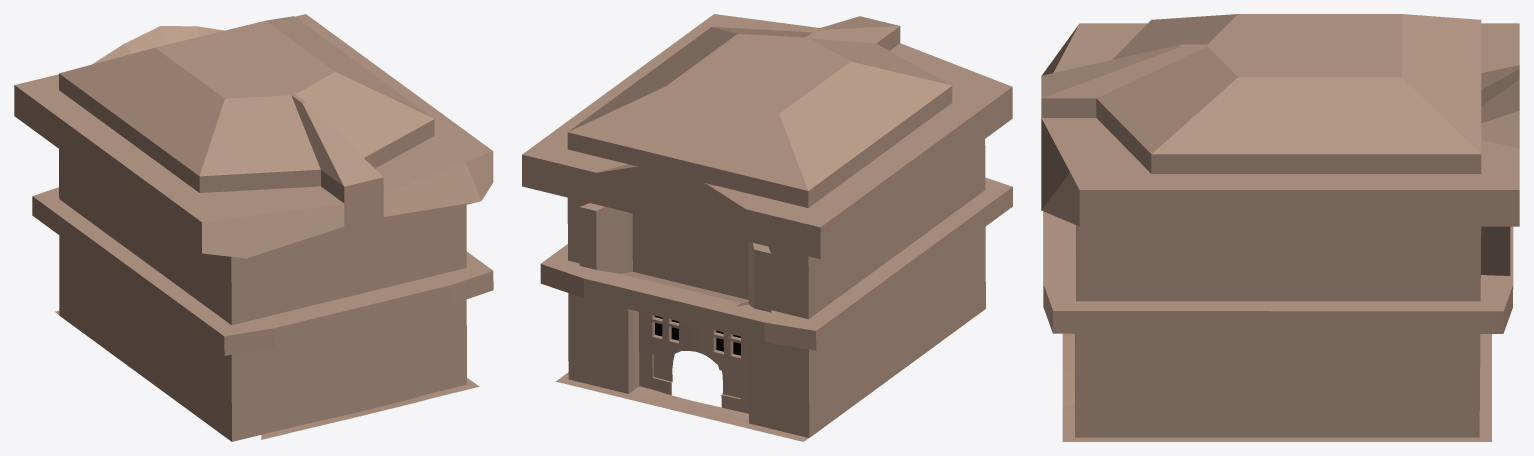
The model's file is Building_Six.fbx.
3 views of the same model, side by side, from view 1: azimuth 30°, elevation 25°; view 2: azimuth 150°, elevation 25°; view 3: azimuth 270°, elevation 25° (orthographic). The views are drawn at different scales.
Parts seen in each view (by area): view 1: Plane.006; view 2: Plane.006; view 3: Plane.006.
Part boxes in pixels (left/top/right/bottom): Plane.006: left=14, top=14, right=493, bottom=441; Plane.006: left=522, top=14, right=1012, bottom=441; Plane.006: left=1041, top=14, right=1519, bottom=441.
Bounding box in the file's own units: 1726 × 1574 × 2090.
